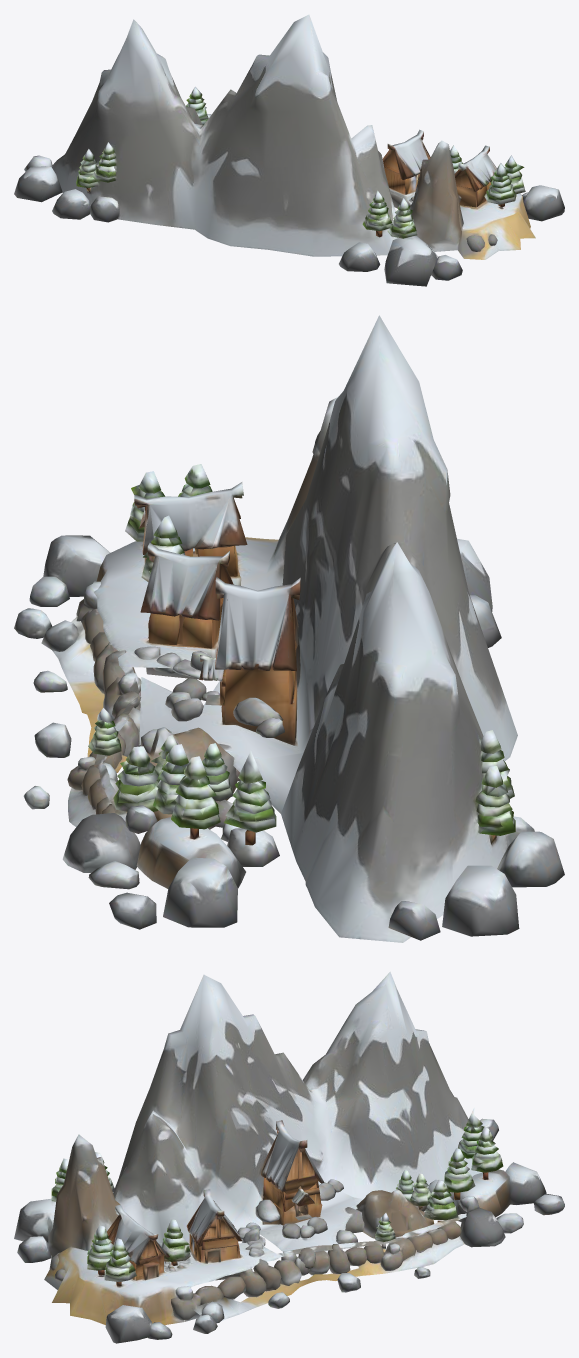
Rendered from isle_08.glb.
The picture shows the model from 3 angles, top to bottom: view 1: azimuth 30°, elevation 25°; view 2: azimuth 150°, elevation 25°; view 3: azimuth 270°, elevation 25°; orthographic projection. The views are drawn at different scales.
Parts seen in each view (by area): view 1: tripo_node_7c99171c-94eb-427f-9f29-499f6751c6b9; view 2: tripo_node_7c99171c-94eb-427f-9f29-499f6751c6b9; view 3: tripo_node_7c99171c-94eb-427f-9f29-499f6751c6b9.
Part boxes in pixels (box(x1,y1,x2,y2)): tripo_node_7c99171c-94eb-427f-9f29-499f6751c6b9: box(14, 14, 564, 286); tripo_node_7c99171c-94eb-427f-9f29-499f6751c6b9: box(14, 315, 564, 942); tripo_node_7c99171c-94eb-427f-9f29-499f6751c6b9: box(14, 971, 564, 1343).
Size of the model in its own units: 67.88 by 36.38 by 71.22.
Materials: 1 (1 with a texture image).
